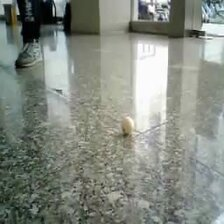w: (120, 116, 135, 134)
